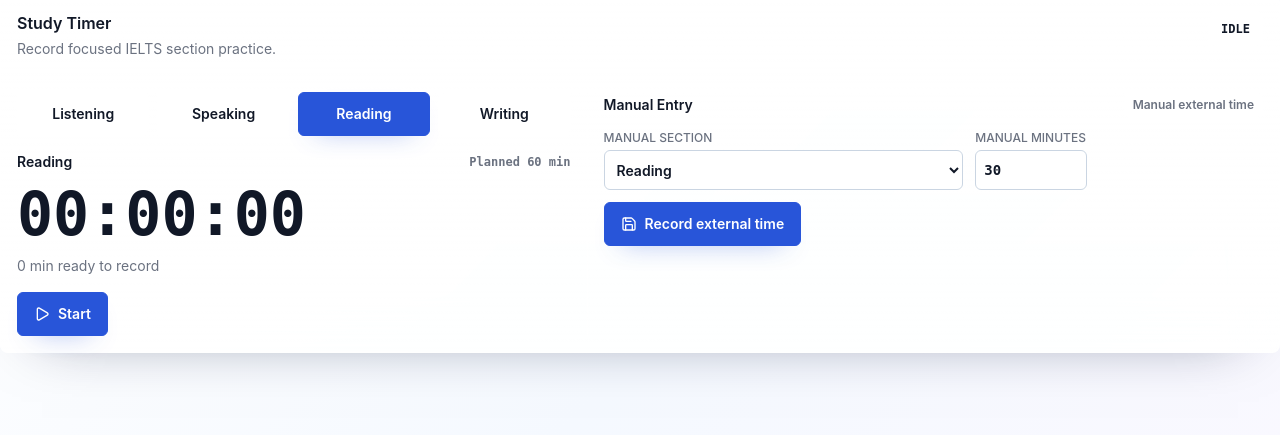
Test: StudyTimerPanel › shows reading overtime warning after the 60 minute planned time
This screenshot has width=1280, height=435.
expect the text "Planned 60 min" is shown: met, box [469,154,570,170]
Click the button "Start" at (62,314), box [17,292,108,336]
Wait 3720000 ms
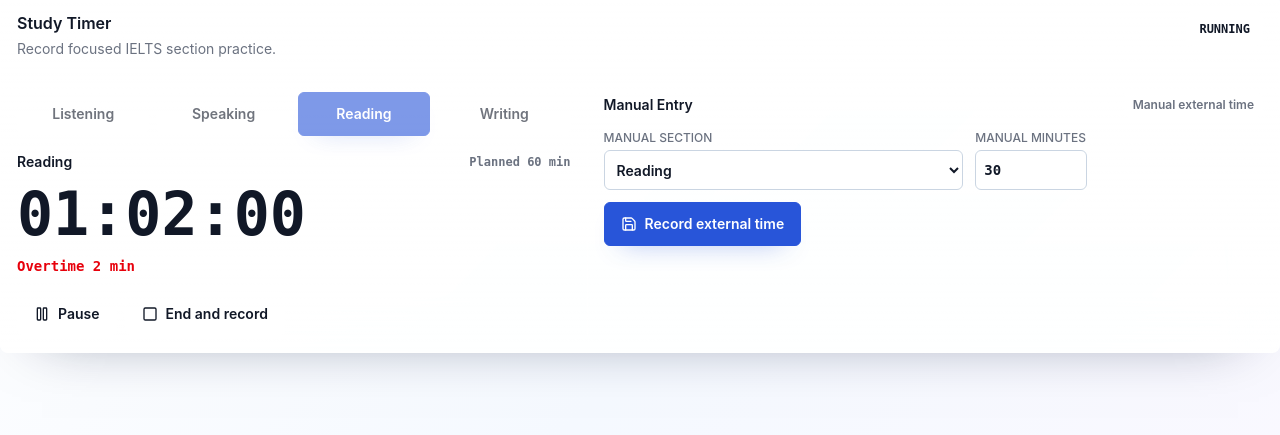
expect the text "Overtime 2 min" is shown: met, box [17,258,135,274]
